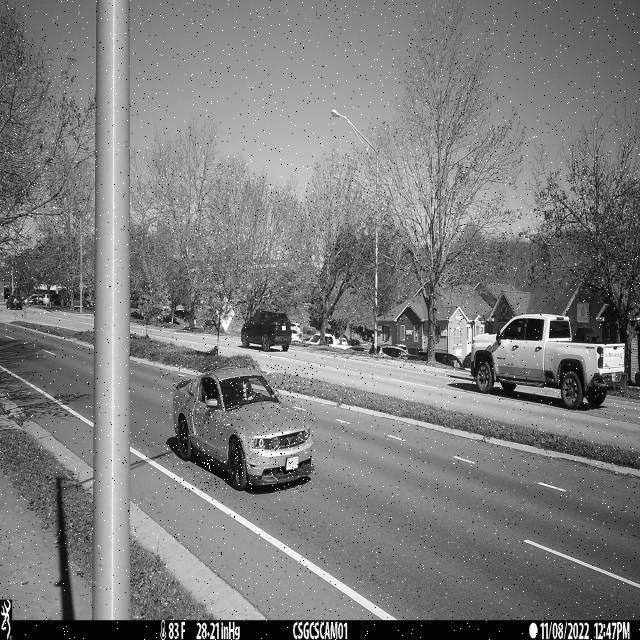Sedan: (173, 365, 315, 492)
